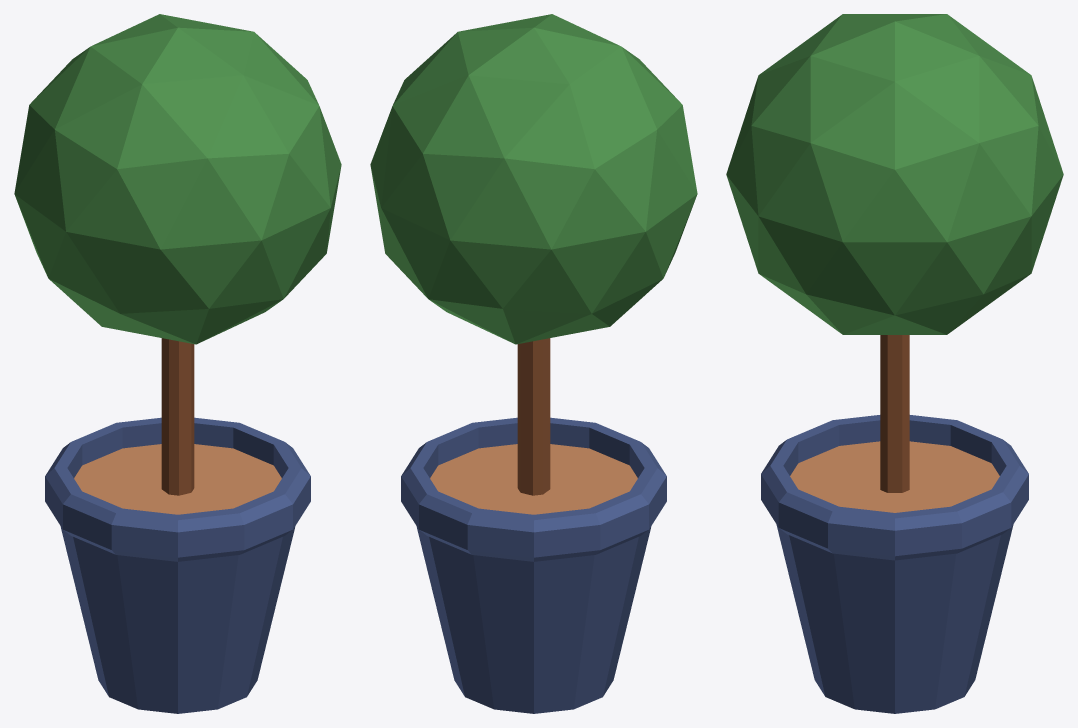
The model's file is Plant A.glb.
3 views of the same model, side by side, from view 1: azimuth 30°, elevation 25°; view 2: azimuth 150°, elevation 25°; view 3: azimuth 270°, elevation 25° (orthographic).
Parts seen in each view (by area): view 1: Plant A; view 2: Plant A; view 3: Plant A.
Part boxes in pixels (x1,y1,x2,y2): Plant A: (14, 14, 341, 713); Plant A: (370, 14, 697, 713); Plant A: (726, 14, 1063, 713).
Bounding box in the file's own units: 262 × 592 × 275.
